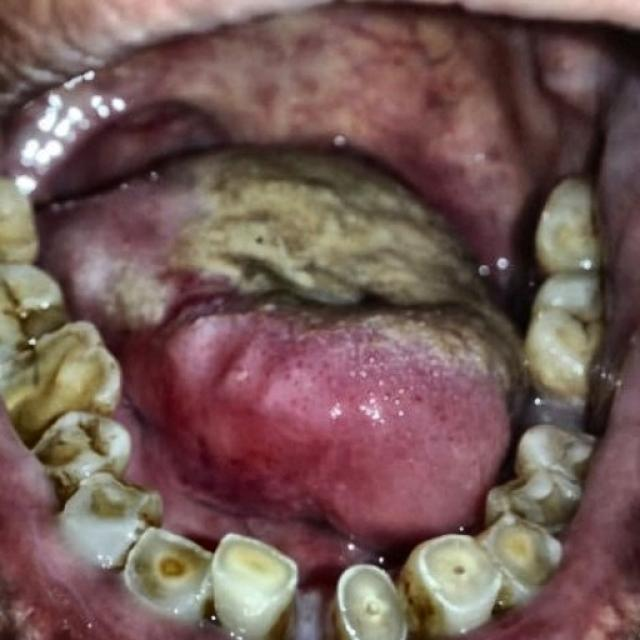cancer-detection: (44, 147, 514, 393)
processing_area: (31, 19, 605, 563)
